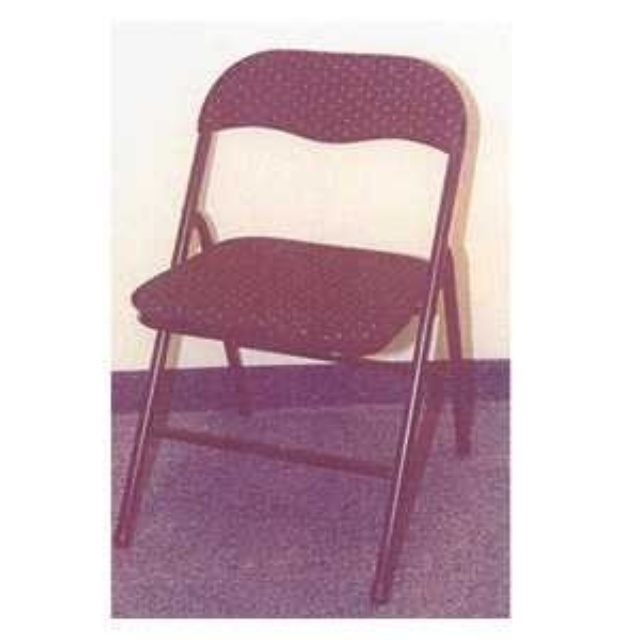obstacle: (113, 49, 476, 614)
